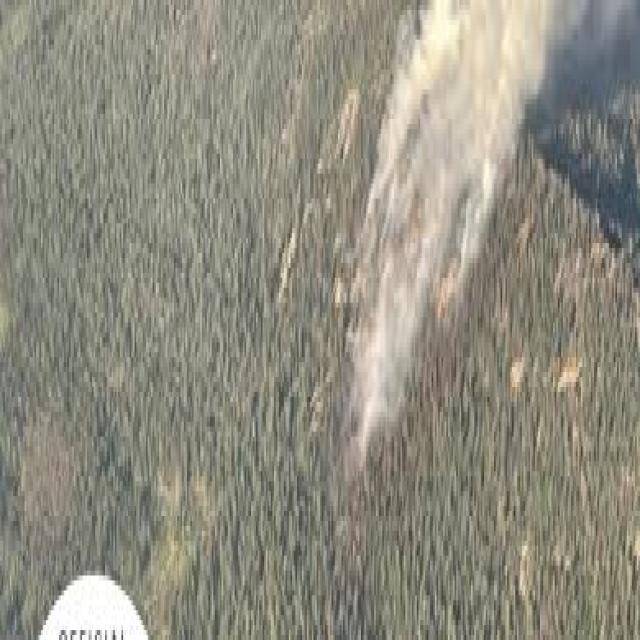Smoke: (386, 0, 552, 225), (348, 143, 406, 488)
